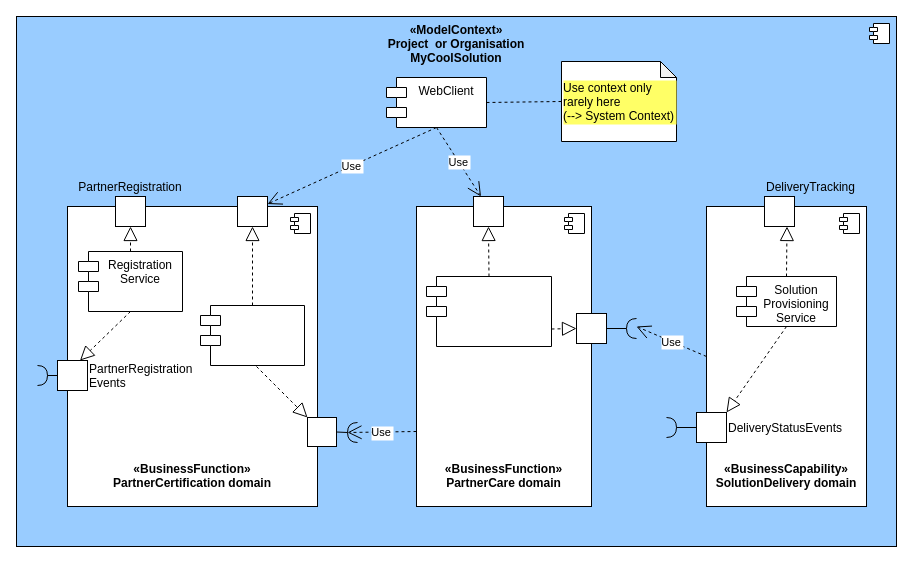
Some shapes in this 913 by 563 pixel diagram are drawn without their labels. The centre of each missing label's shape, as x and y in pixels:
"Assessment Service" goes at [252,335].
"CapacityService" goes at [489,311].
"PartnerAssessment" goes at [252,211].
"PartnerAssessment Events" goes at [321,431].
"PartnerBooking" goes at [488,211].
"PartnerBookingEvents" goes at [591,328].
